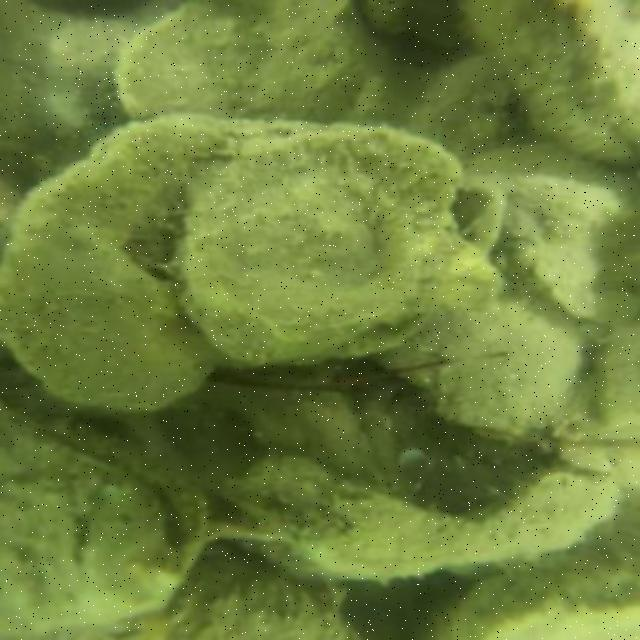Oyster-Closed: (177, 129, 498, 368), (8, 120, 220, 411), (0, 402, 209, 640), (227, 454, 614, 574), (119, 1, 415, 127), (470, 142, 640, 325), (453, 1, 638, 166), (377, 294, 581, 438), (421, 529, 639, 640), (179, 548, 366, 640), (420, 53, 519, 156)
